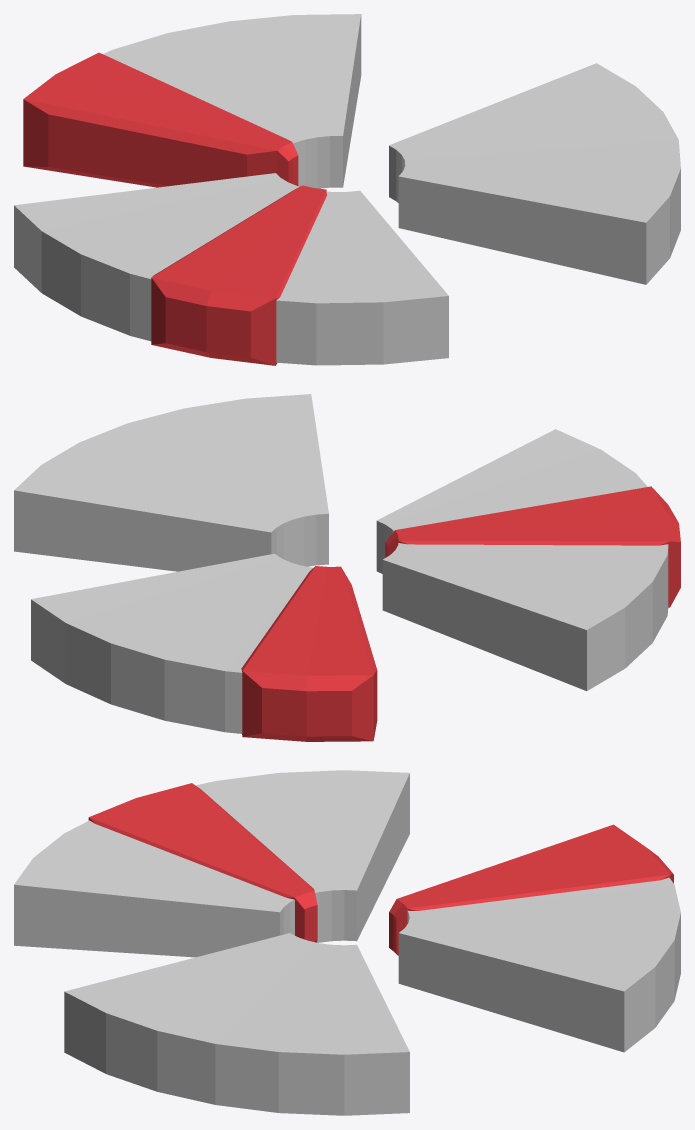
File: platform_triplegap1.glb
The picture shows the model from 3 angles, top to bottom: view 1: azimuth 30°, elevation 25°; view 2: azimuth 150°, elevation 25°; view 3: azimuth 270°, elevation 25°; orthographic projection.
Visible parts, largest first — view 1: Platform_TripleGap1, Danger.012, Danger.002; view 2: Platform_TripleGap1, Danger.012, Danger.002; view 3: Platform_TripleGap1, Danger.002, Danger.012.
Part boxes in pixels (bbox=[...]): Platform_TripleGap1: bbox=[14, 14, 680, 365]; Danger.012: bbox=[23, 52, 298, 187]; Danger.002: bbox=[151, 185, 326, 365]; Platform_TripleGap1: bbox=[14, 394, 668, 733]; Danger.012: bbox=[241, 566, 377, 741]; Danger.002: bbox=[385, 486, 680, 607]; Platform_TripleGap1: bbox=[14, 770, 680, 1115]; Danger.002: bbox=[88, 783, 317, 942]; Danger.012: bbox=[389, 824, 673, 955].
Bounding box in the file's own units: 2 × 0.2167 × 1.98.
